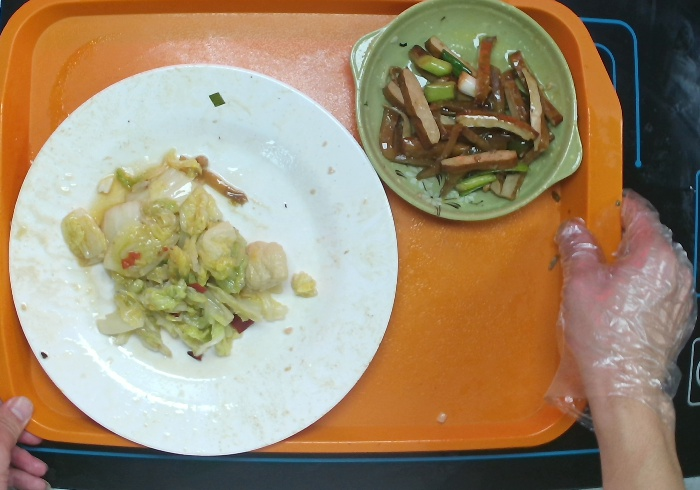NLDX-Da_Yuan_Pan: (2, 57, 405, 461)
NLDX-Lv_Hua_Shuang_Er_Die: (345, 1, 590, 229)
